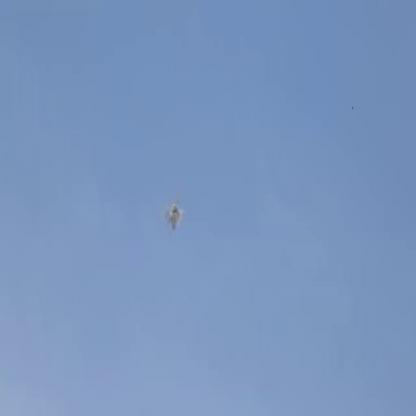drone: (160, 194, 195, 242)
